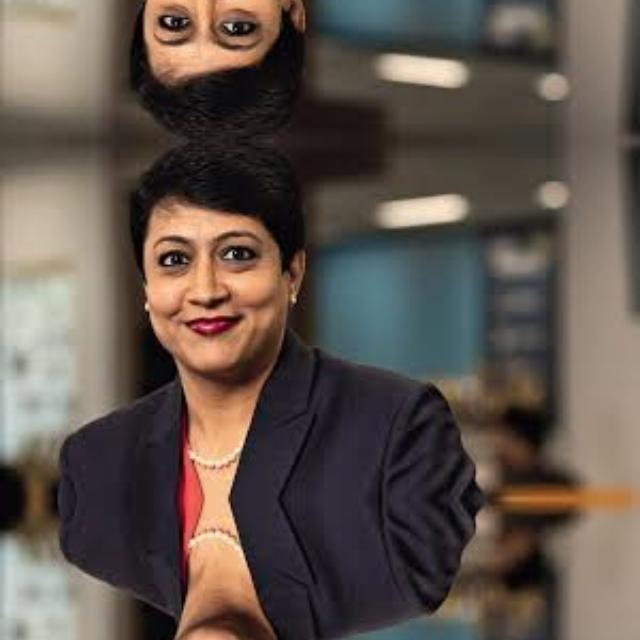person: (66, 140, 476, 498), (66, 499, 476, 640), (66, 0, 476, 140)
